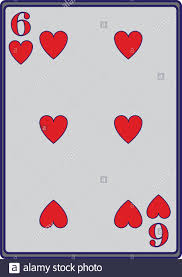six of hearts: (5, 6, 176, 252)
